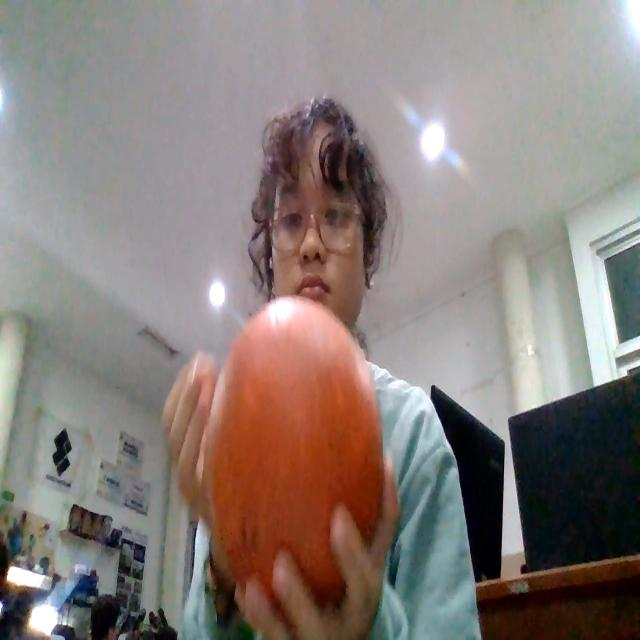ball: (202, 293, 386, 610)
